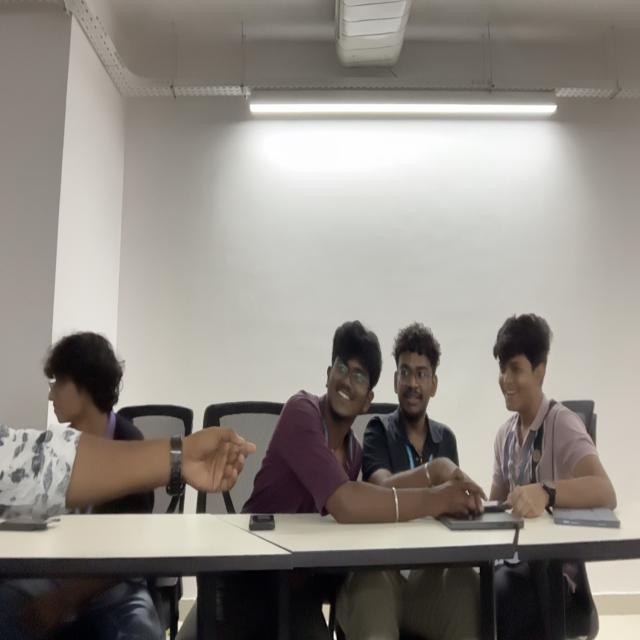Isolated: (45, 332, 155, 516)
socializing: (245, 314, 617, 518)
